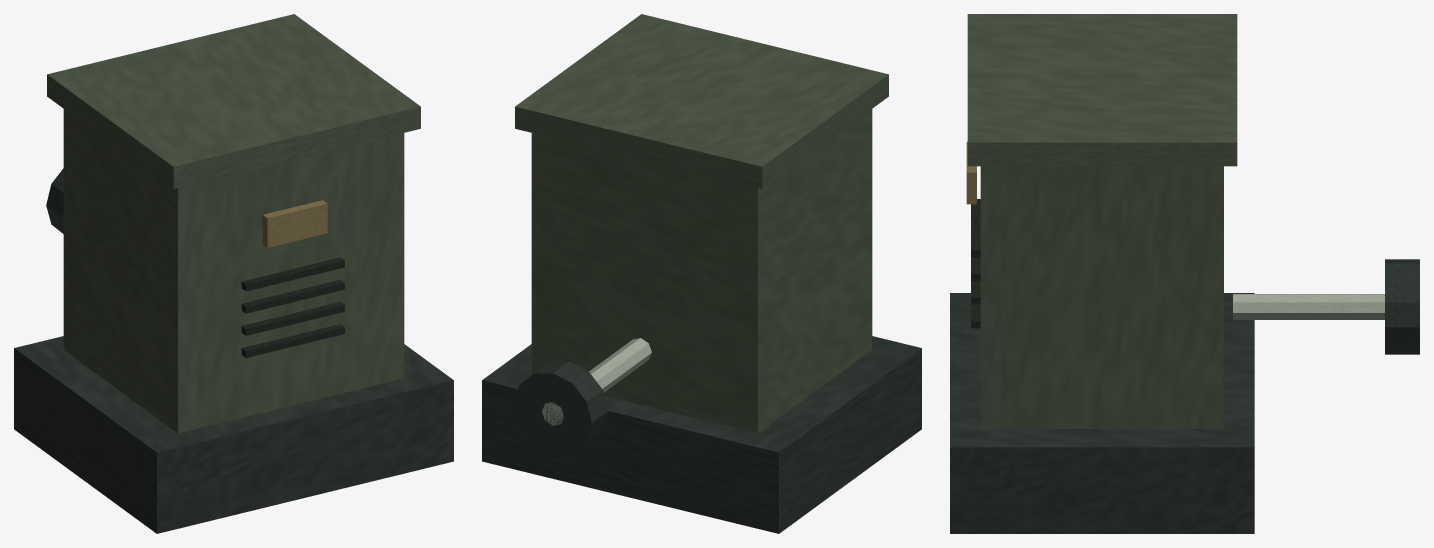
File: SG_Drive.glb
3 renders of one model, left to right at view 1: azimuth 30°, elevation 25°; view 2: azimuth 150°, elevation 25°; view 3: azimuth 270°, elevation 25°, orthographic. The views are drawn at different scales.
Visible parts, largest first — view 1: SG_Drive; view 2: SG_Drive; view 3: SG_Drive.
Part boxes in pixels (<box>): SG_Drive: <box>14,14,453,533</box>; SG_Drive: <box>482,14,921,533</box>; SG_Drive: <box>950,14,1419,533</box>.
Size of the model in its own units: 0.42 by 0.48 by 0.54.
1 material, 1 textured.
